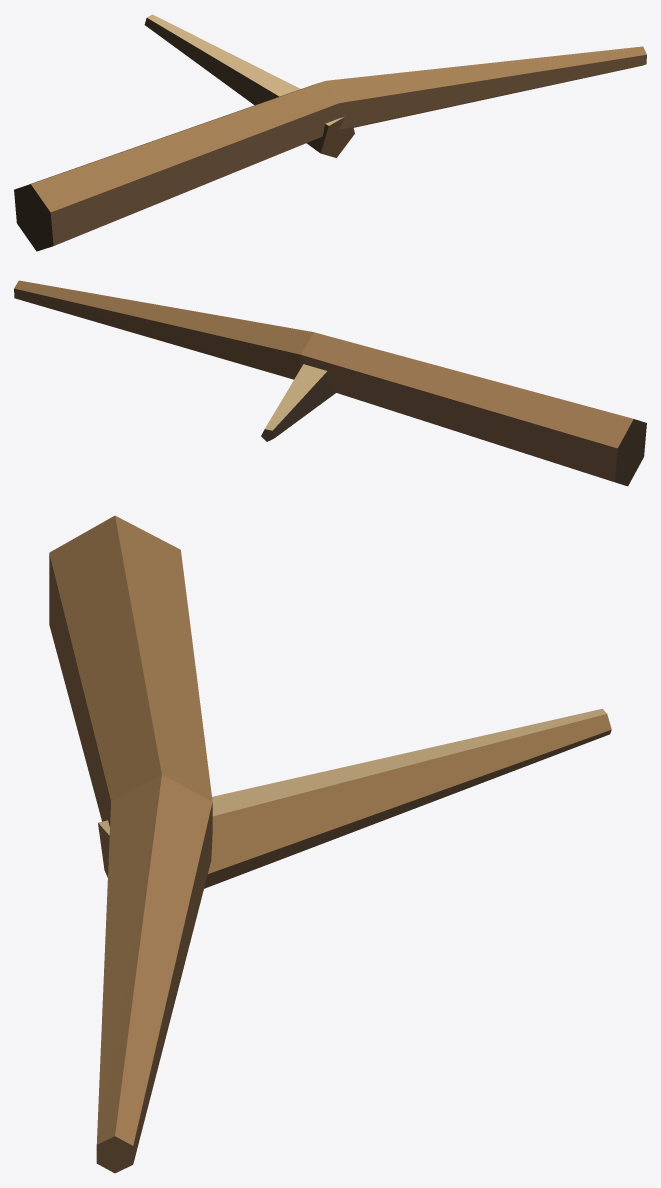
The model's file is TW_PROP_BRANCH_FORK_A_LOD0.glb.
3 views of the same model, one above another, from view 1: azimuth 30°, elevation 25°; view 2: azimuth 150°, elevation 25°; view 3: azimuth 270°, elevation 25° (orthographic). The views are drawn at different scales.
Visible parts, largest first — view 1: TW_PROP_BRANCH_FORK_A_LOD0; view 2: TW_PROP_BRANCH_FORK_A_LOD0; view 3: TW_PROP_BRANCH_FORK_A_LOD0.
Boxes of the visible parts, box(x1,y1,x2,y2) form: TW_PROP_BRANCH_FORK_A_LOD0: box(14, 14, 646, 251); TW_PROP_BRANCH_FORK_A_LOD0: box(14, 280, 646, 486); TW_PROP_BRANCH_FORK_A_LOD0: box(49, 515, 611, 1173).
Size of the model in its own units: 1.21 by 0.1675 by 0.4801.
1 material, 1 textured.
